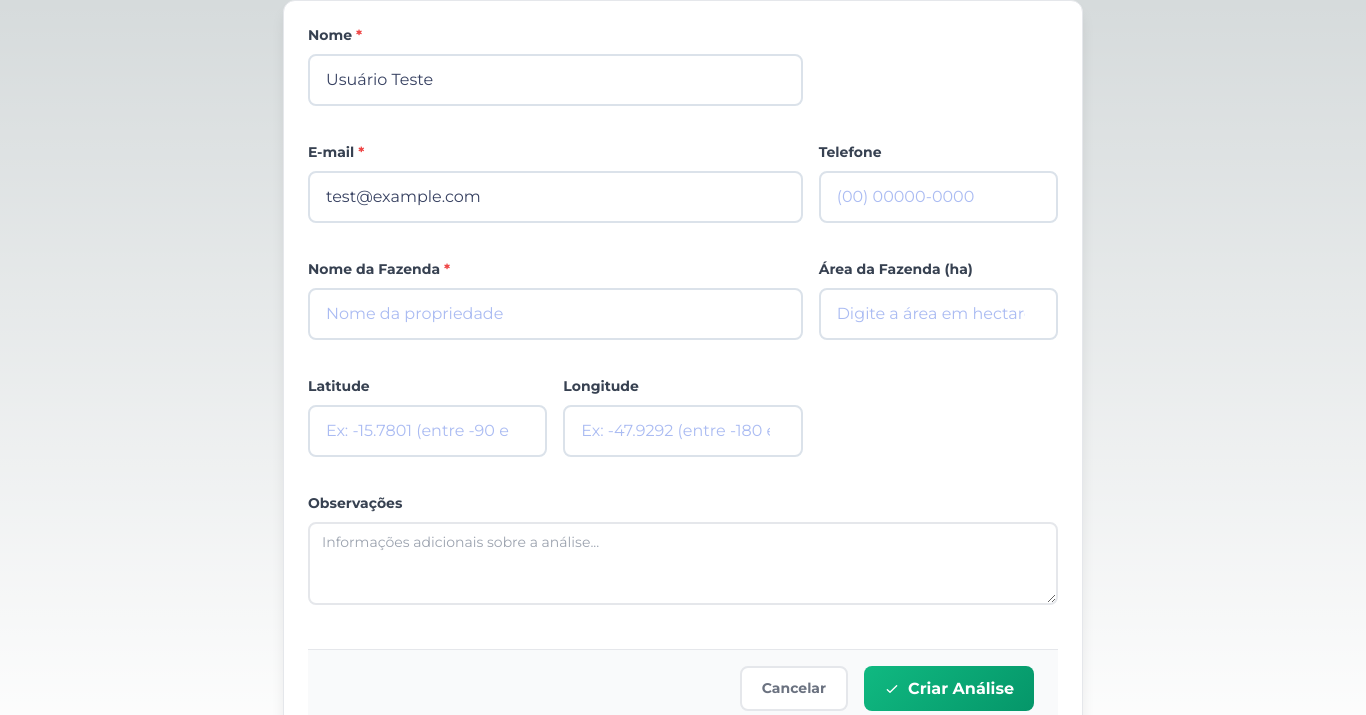
AnaliseForm › deve validar campos obrigatórios
Clear the field labelled "Nome *" at (555, 80), box [308,54,803,106]
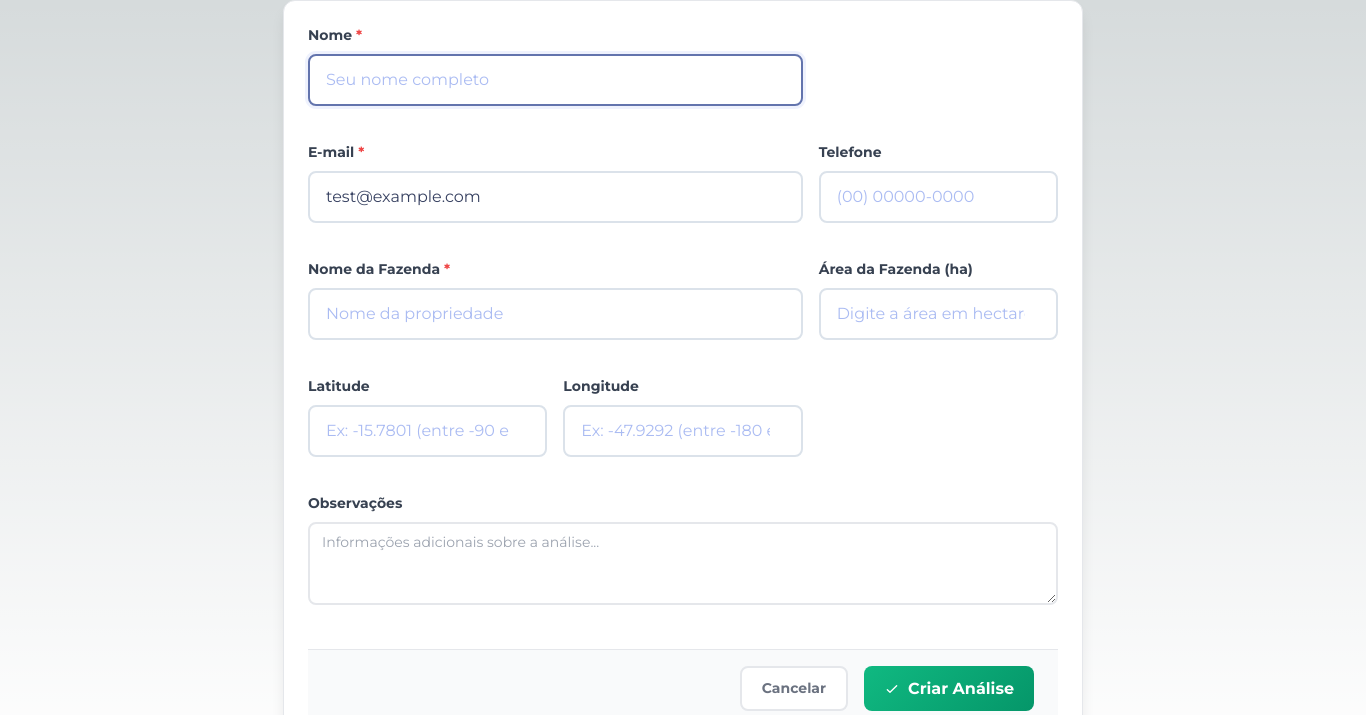
Clear the field labelled "E-mail *" at (555, 197), box [308,171,803,223]
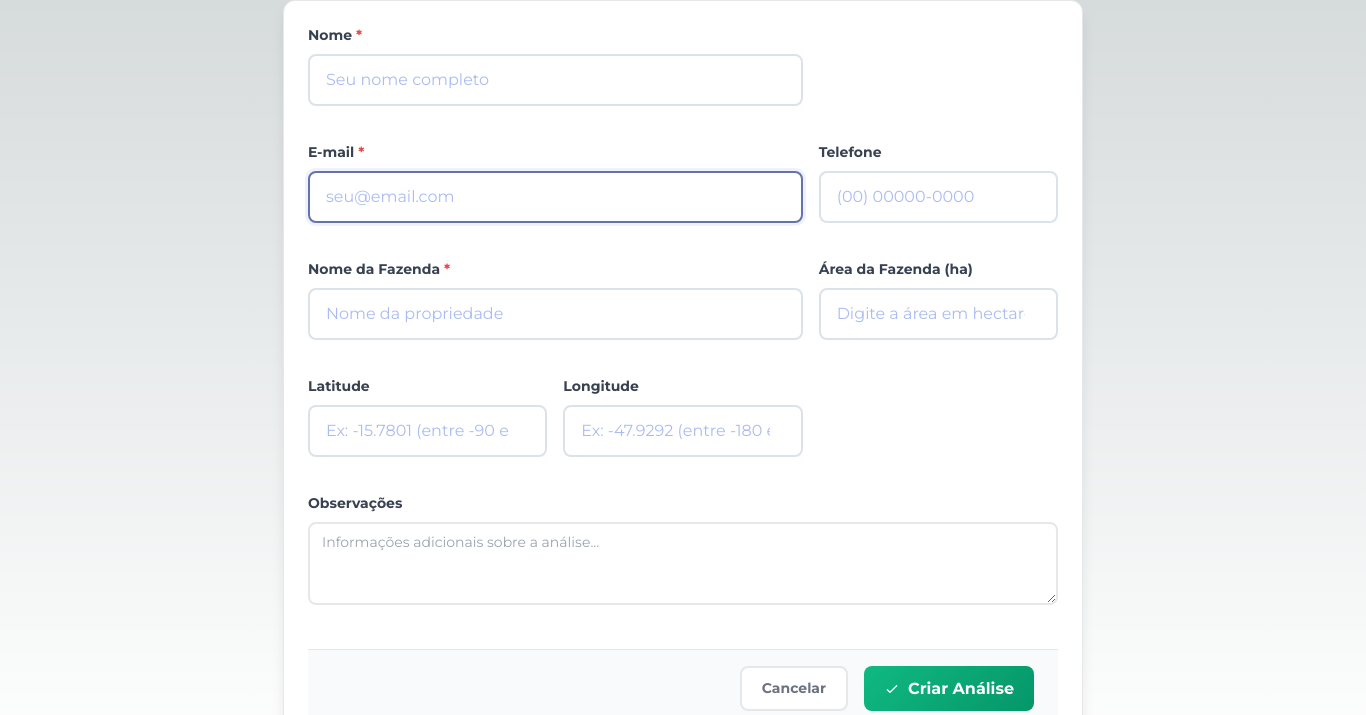
Clear the field labelled "Nome da Fazenda *" at (555, 314), box [308,288,803,340]
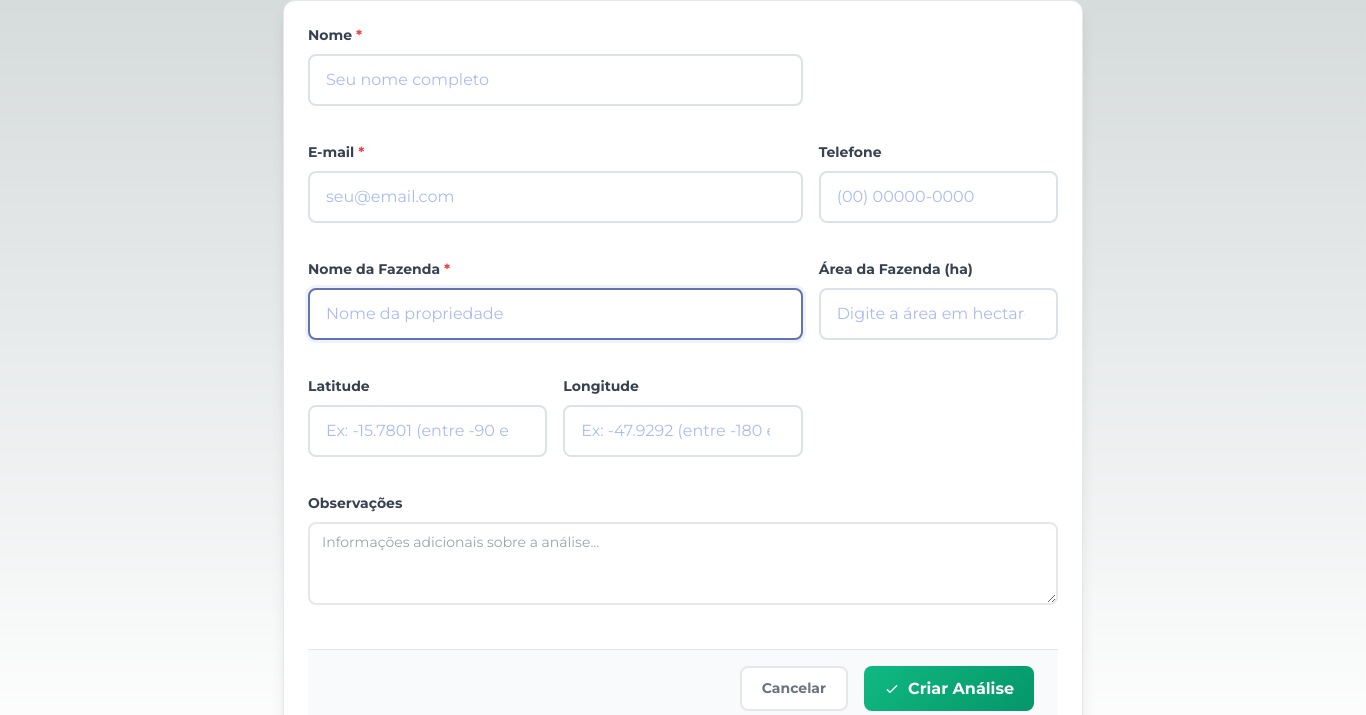
Tentar enviar formulário
Click the button "Criar Análise" at (949, 688), box [864,666,1034,711]
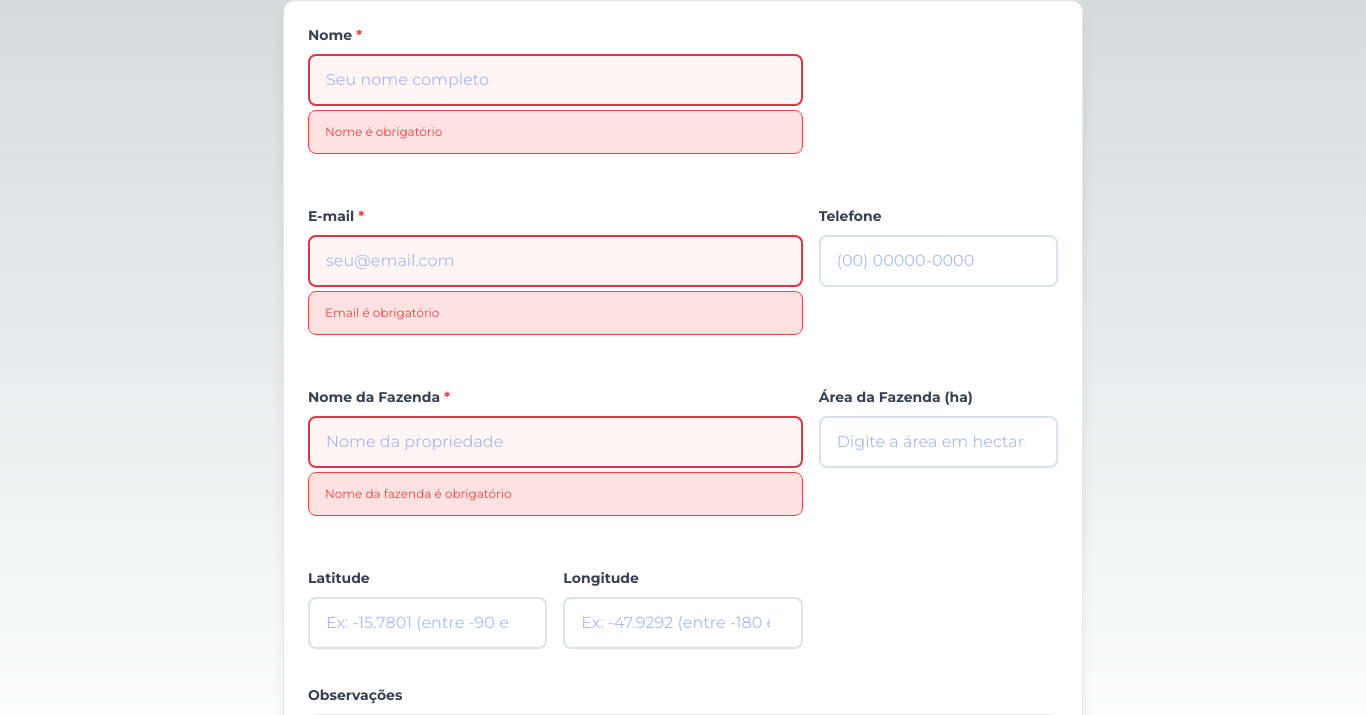
Check: the text "Nome é obrigatório" is shown, box [308,110,803,154]
Check: the text "Email é obrigatório" is shown, box [308,291,803,335]
Check: the text "Nome da fazenda é obrigatório" is shown, box [308,472,803,516]
